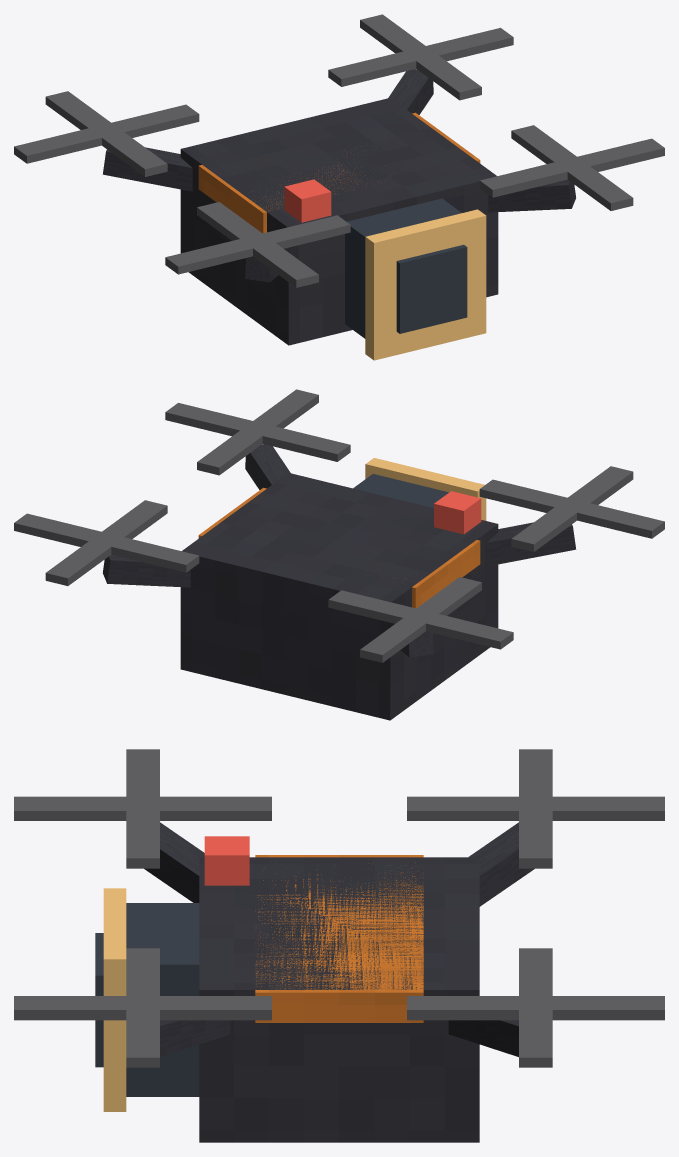
File: drone.glb
3 renders of one model, top to bottom at view 1: azimuth 30°, elevation 25°; view 2: azimuth 150°, elevation 25°; view 3: azimuth 270°, elevation 25°, orthographic. The views are drawn at different scales.
Parts seen in each view (by area): view 1: drone_body, lens_ring, lens_glass, lens_barrel, drill_0_blade_a, drill_3_blade_a, drill_1_blade_a, drill_2_blade_a, drill_3_blade_b, drill_0_blade_b, drill_1_blade_b, drill_2_blade_b (+6 smaller); view 2: drone_body, drill_2_blade_a, drill_1_blade_a, drill_0_blade_a, drill_3_blade_a, drill_3_blade_b, drill_0_blade_b, drill_2_blade_b, drill_1_blade_b, drone_stripe, lens_ring, arm_0 (+5 smaller); view 3: drone_body, drone_stripe, lens_barrel, drill_3_blade_b, drill_1_blade_b, drill_2_blade_b, drill_0_blade_b, lens_ring, drill_0_blade_a, drill_1_blade_a, drill_2_blade_a, drill_3_blade_a (+6 smaller).
Boxes of the visible parts, x1,y1,x2,y2 form: drone_body: (180, 98, 498, 345); lens_ring: (365, 209, 486, 360); lens_glass: (396, 244, 467, 333); lens_barrel: (345, 198, 461, 338); drill_0_blade_a: (328, 27, 513, 86); drill_3_blade_a: (165, 215, 350, 274); drill_1_blade_a: (14, 104, 199, 163); drill_2_blade_a: (479, 138, 664, 197); drill_3_blade_b: (197, 202, 318, 287); drill_0_blade_b: (360, 14, 481, 100); drill_1_blade_b: (45, 91, 167, 176); drill_2_blade_b: (511, 125, 633, 210); drone_body: (180, 473, 498, 720); drill_2_blade_a: (165, 403, 350, 461); drill_1_blade_a: (328, 590, 513, 649); drill_0_blade_a: (14, 513, 199, 572); drill_3_blade_a: (479, 479, 664, 538); drill_3_blade_b: (511, 466, 633, 551); drill_0_blade_b: (45, 500, 167, 585); drill_2_blade_b: (197, 389, 318, 475); drill_1_blade_b: (360, 577, 481, 662); drone_stripe: (198, 487, 480, 608); lens_ring: (365, 458, 486, 520); arm_0: (103, 554, 190, 587); drone_body: (199, 857, 479, 1142); drone_stripe: (255, 855, 423, 1022); lens_barrel: (126, 903, 199, 1096); drill_3_blade_b: (14, 796, 271, 820); drill_1_blade_b: (407, 796, 664, 820); drill_2_blade_b: (14, 996, 271, 1020); drill_0_blade_b: (407, 996, 664, 1020); lens_ring: (103, 888, 126, 1111); drill_0_blade_a: (519, 948, 552, 1067); drill_1_blade_a: (519, 749, 552, 868); drill_2_blade_a: (126, 948, 159, 1067); drill_3_blade_a: (126, 749, 159, 868).
Bounding box in the file's own units: 1.3 × 0.36 × 1.16.
Materials: 6 (2 with a texture image).
